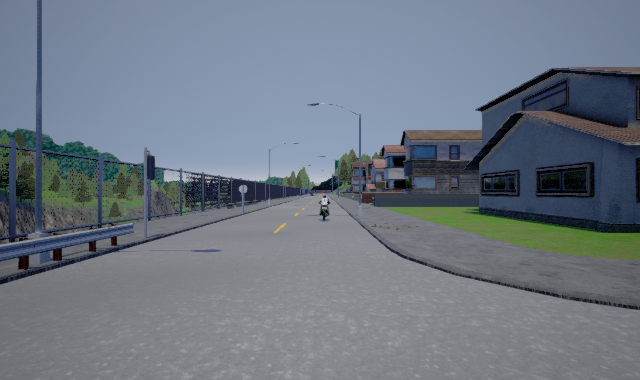motobike: (319, 194, 330, 220)
